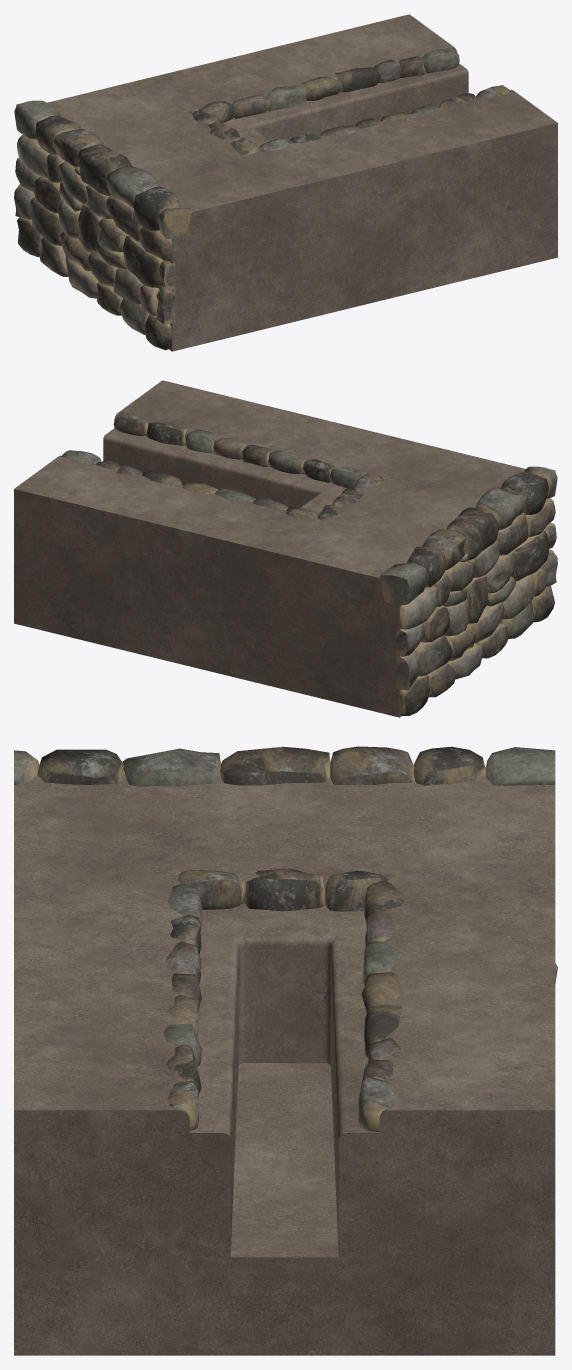
File: SM_Gidan03b.fbx
3 views of the same model, one above another, from view 1: azimuth 30°, elevation 25°; view 2: azimuth 150°, elevation 25°; view 3: azimuth 270°, elevation 25° (orthographic). The views are drawn at different scales.
Parts seen in each view (by area): view 1: SM_Gidan03b; view 2: SM_Gidan03b; view 3: SM_Gidan03b.
Part boxes in pixels (left/top/right/bottom): SM_Gidan03b: left=14, top=14, right=557, bottom=351; SM_Gidan03b: left=14, top=380, right=557, bottom=717; SM_Gidan03b: left=14, top=746, right=557, bottom=1355.
Size of the model in its own units: 310 by 201 by 107.
Materials: 2 (2 with a texture image).
